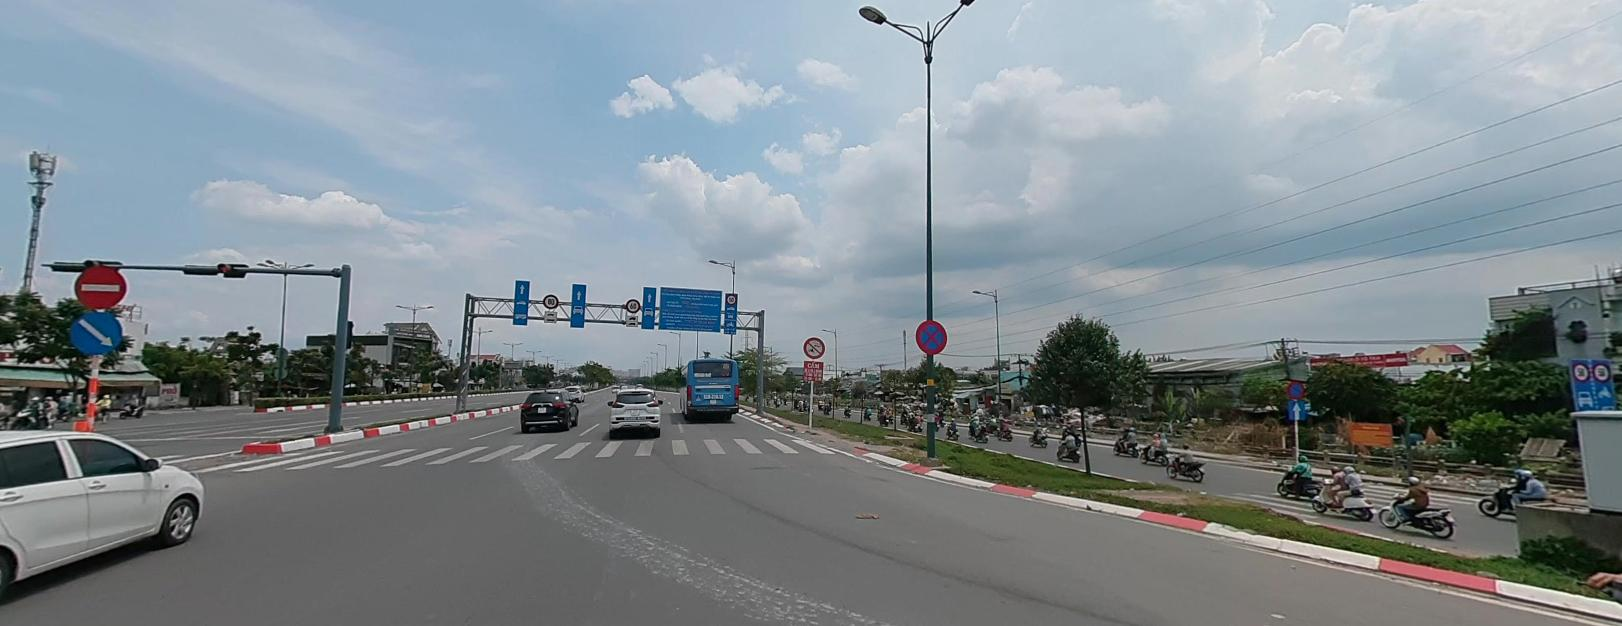Cam con lai: (800, 333, 827, 358), (1592, 361, 1610, 382), (1572, 362, 1589, 380)
Cam dung va do: (911, 318, 949, 353), (1286, 380, 1305, 397)
Cam nguoc chieu: (69, 261, 127, 308)
Gioi han toc do: (541, 291, 559, 307), (624, 295, 640, 312), (726, 293, 735, 303)
Hieu lenh: (65, 311, 122, 355)
